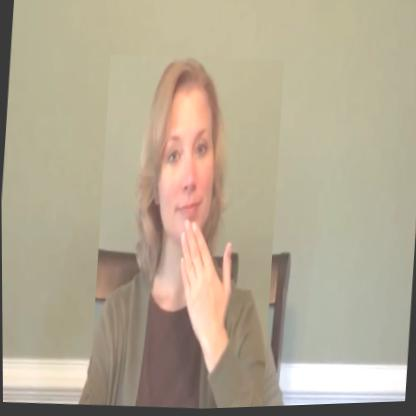ThankYou: (85, 51, 285, 414)
